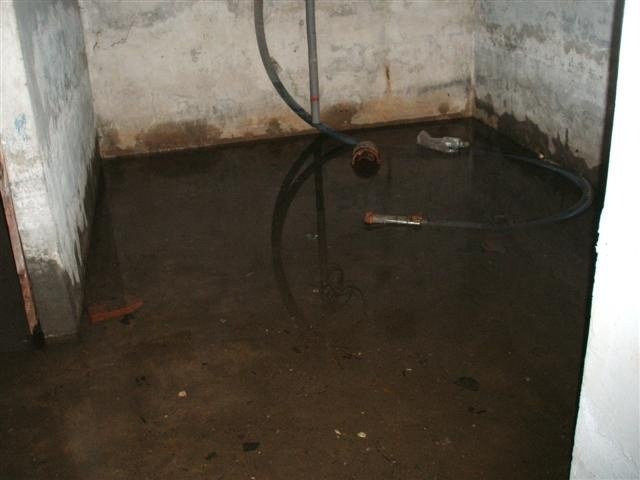bottle: (415, 129, 472, 155)
bucket: (348, 139, 383, 175)
